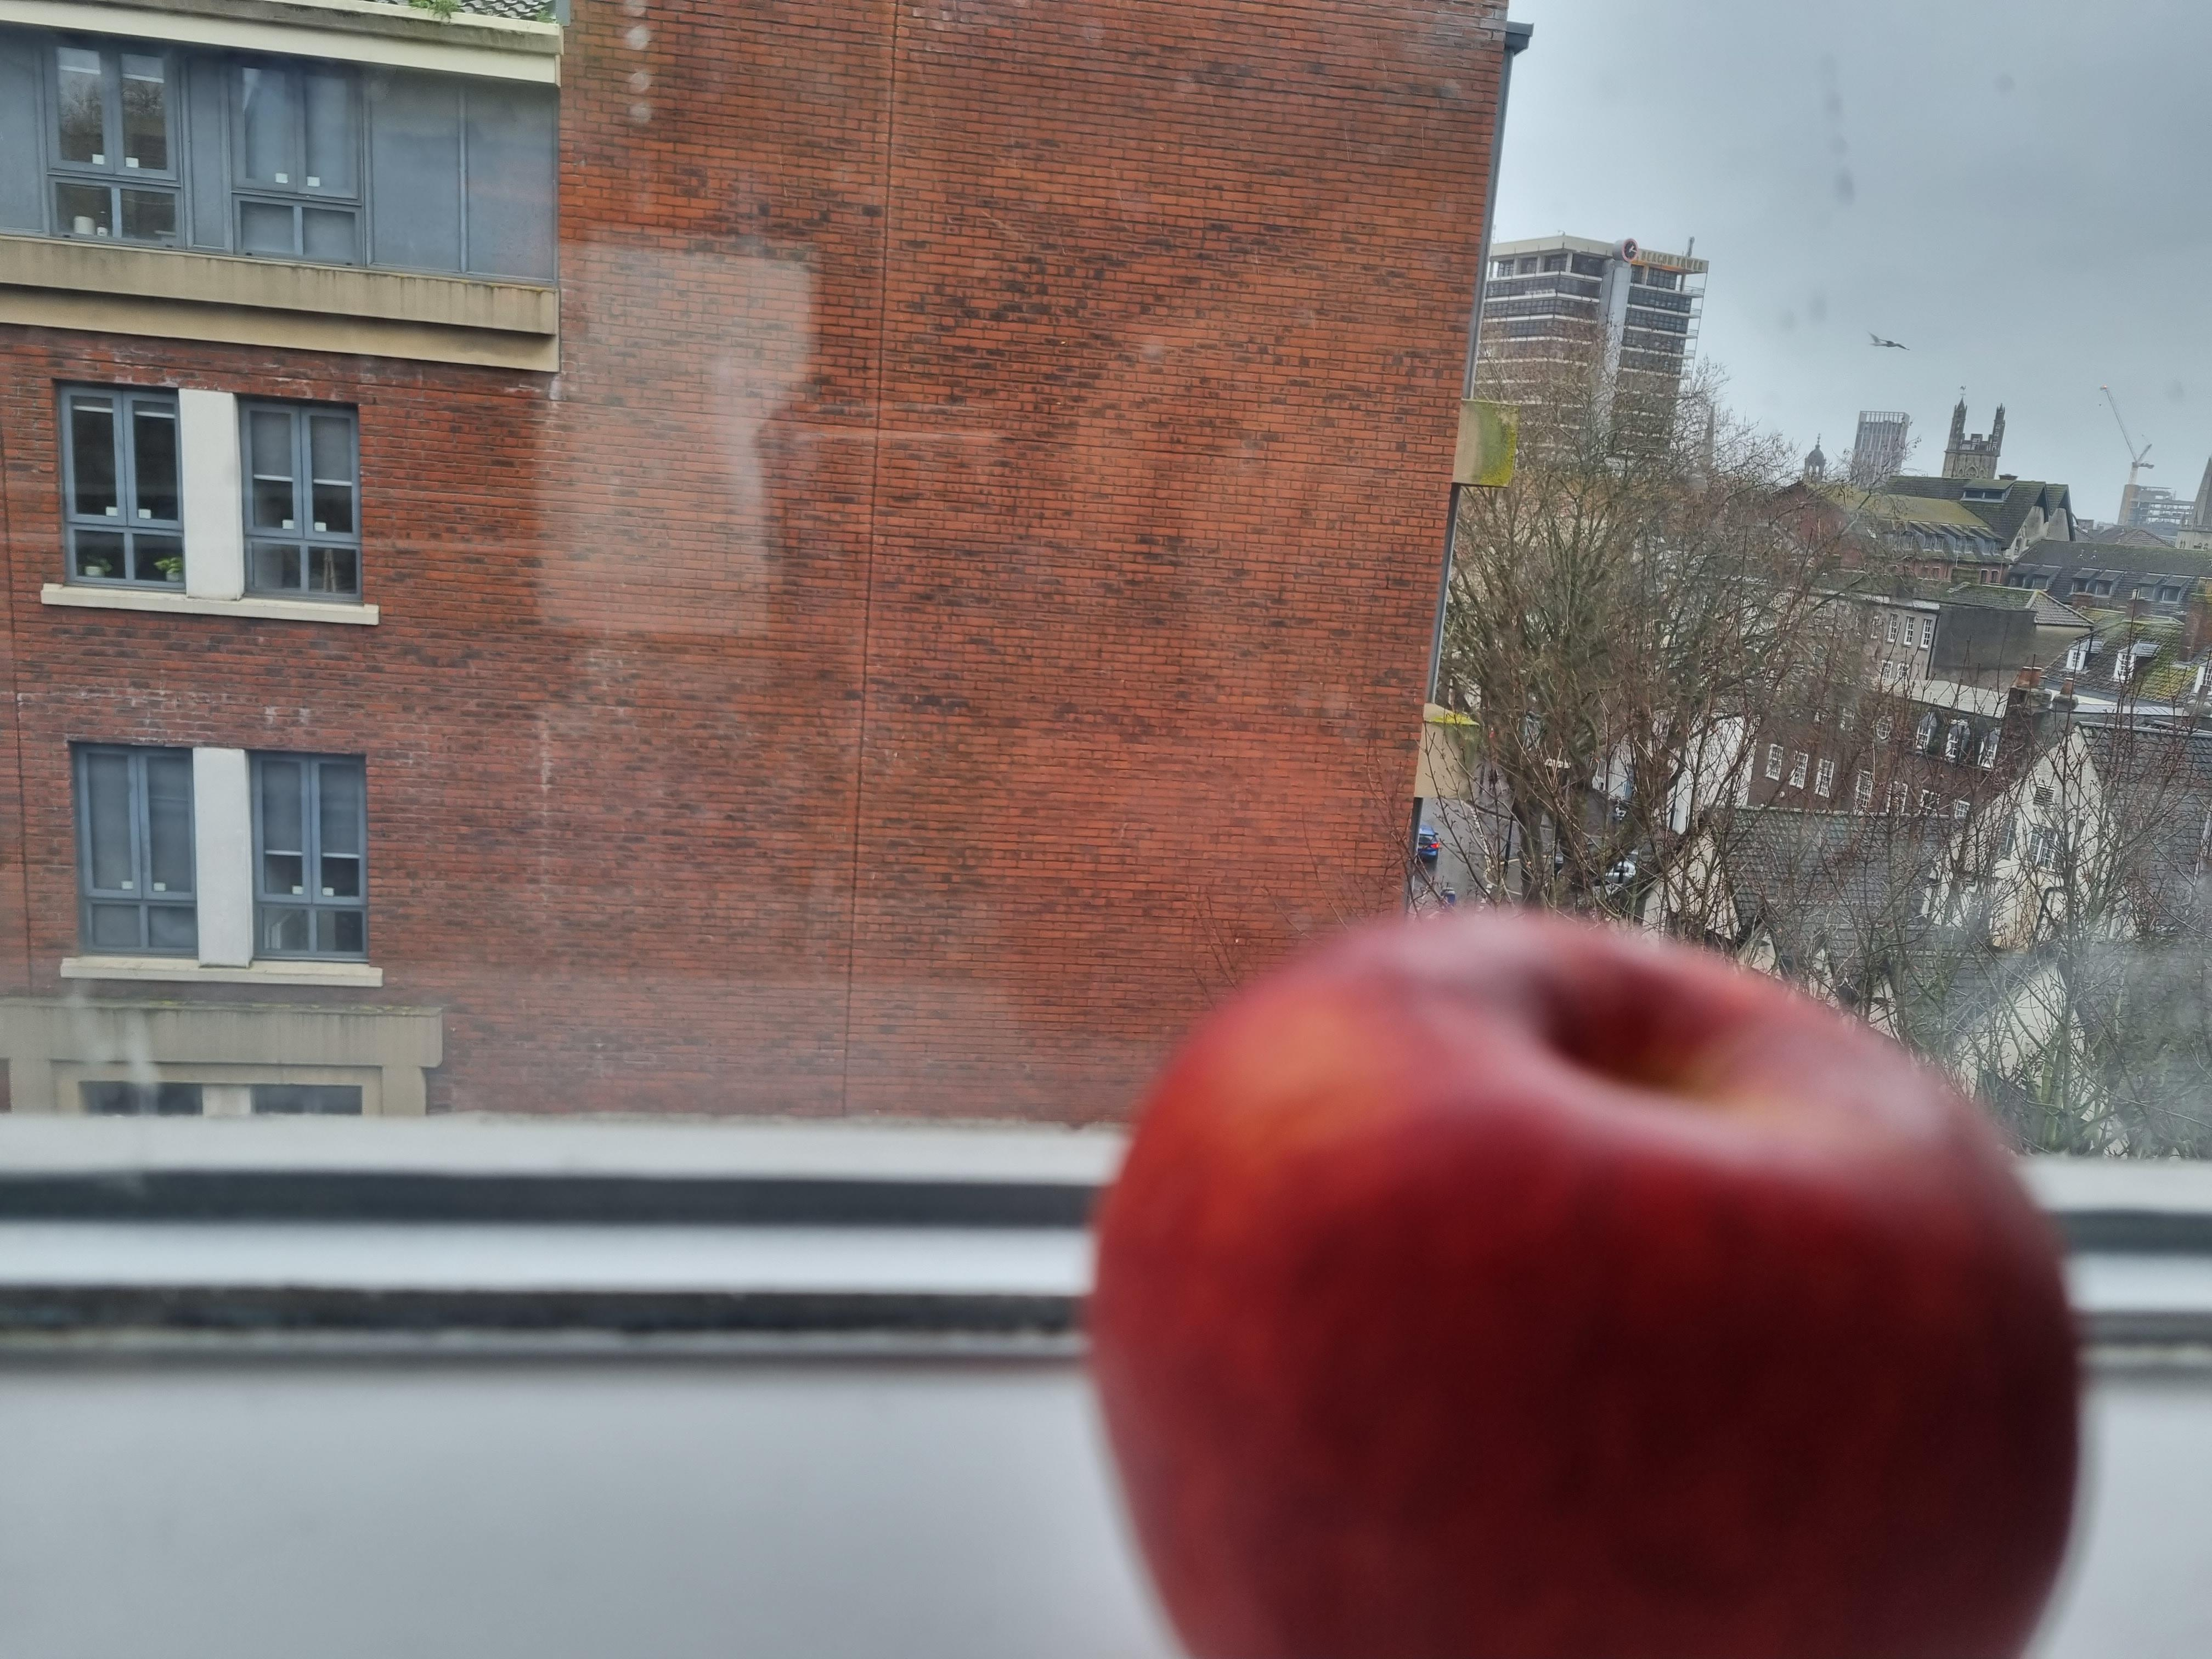Apple: (1043, 887, 2123, 1659)
